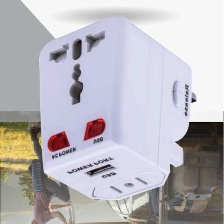three_eye_plug: (32, 10, 198, 209)
